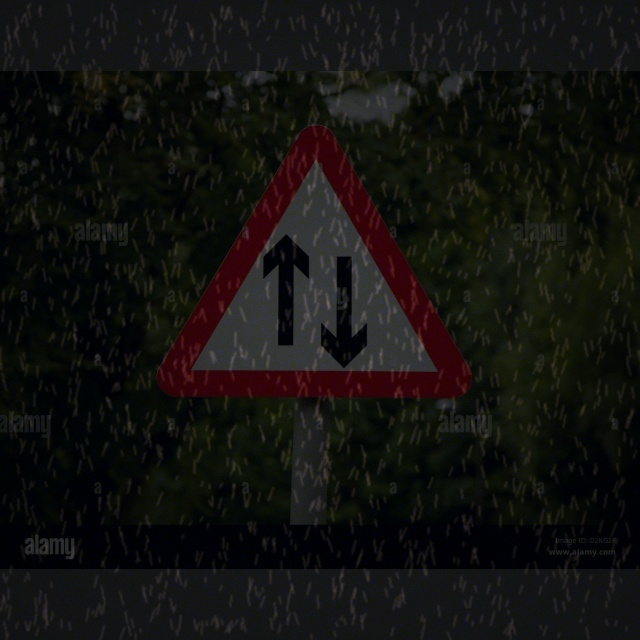Mandatory_Two_Way_Traffic: (155, 128, 472, 398)
